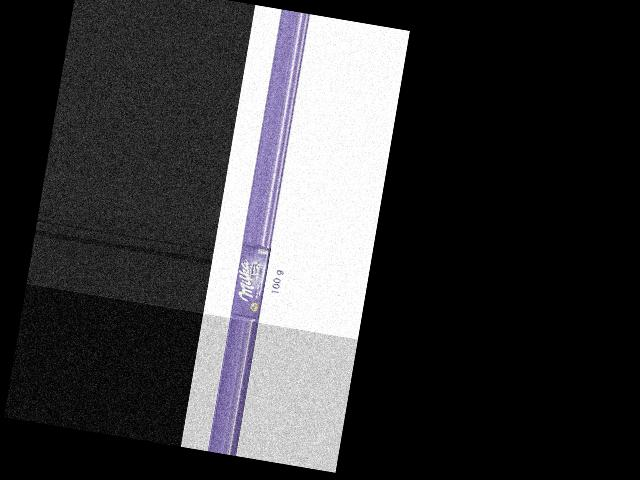chocolate: (229, 240, 276, 321)
